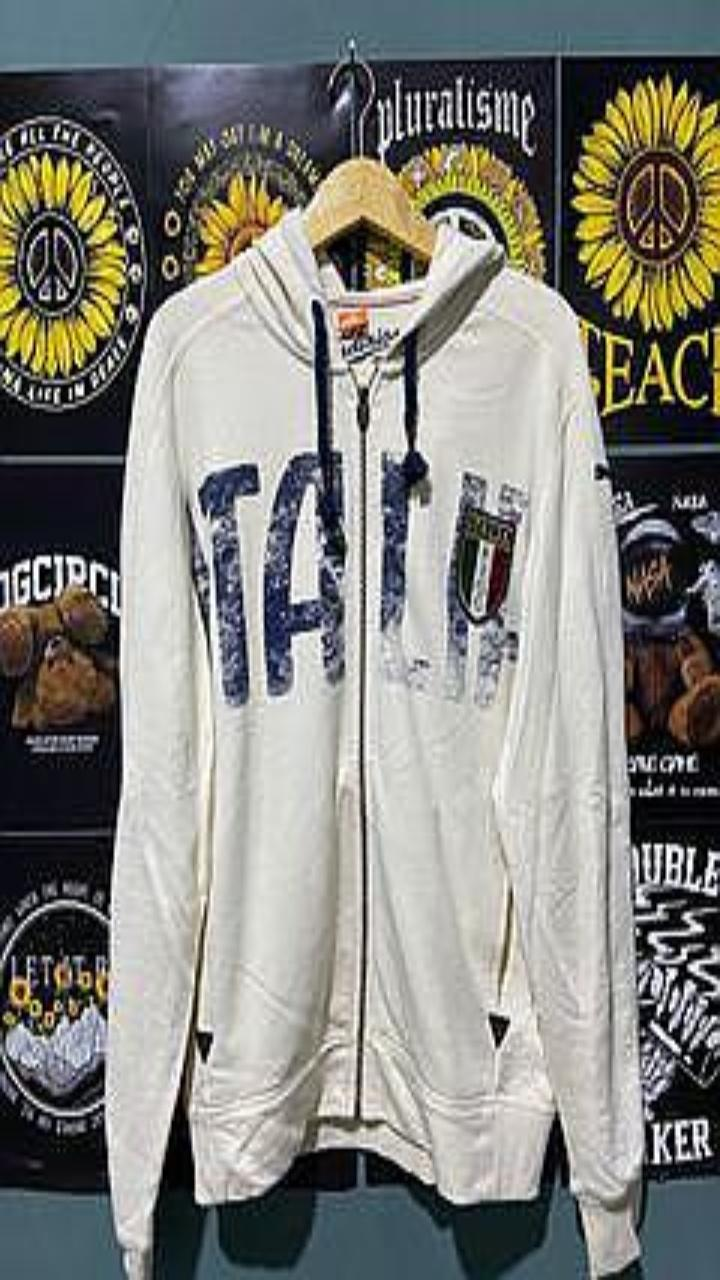Hoodie: (106, 211, 642, 1279)
